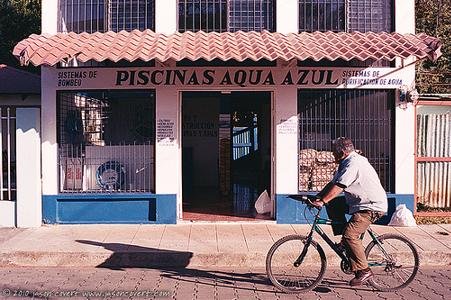person: (307, 137, 387, 287)
